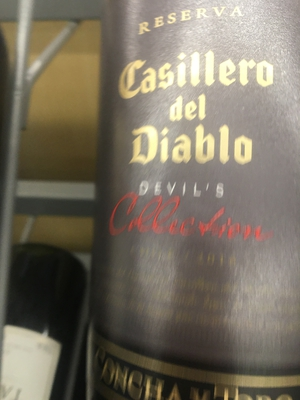casillero del diablo devils collection rojo: (96, 3, 297, 400)
